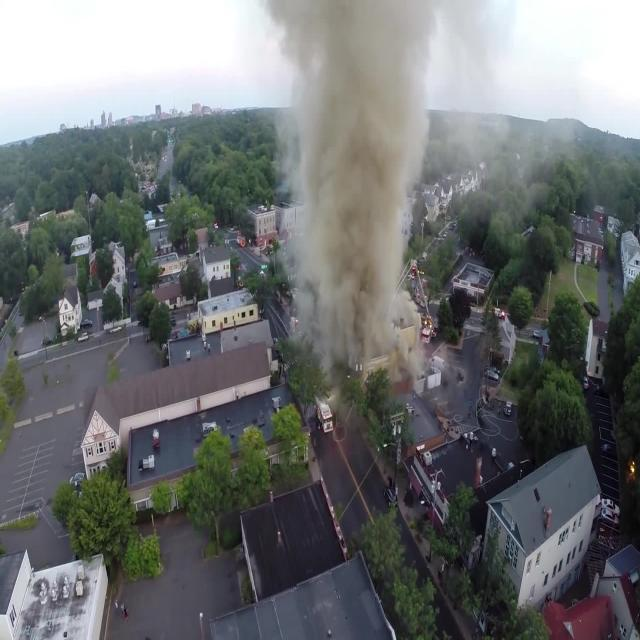Smoke: (265, 6, 449, 409)
